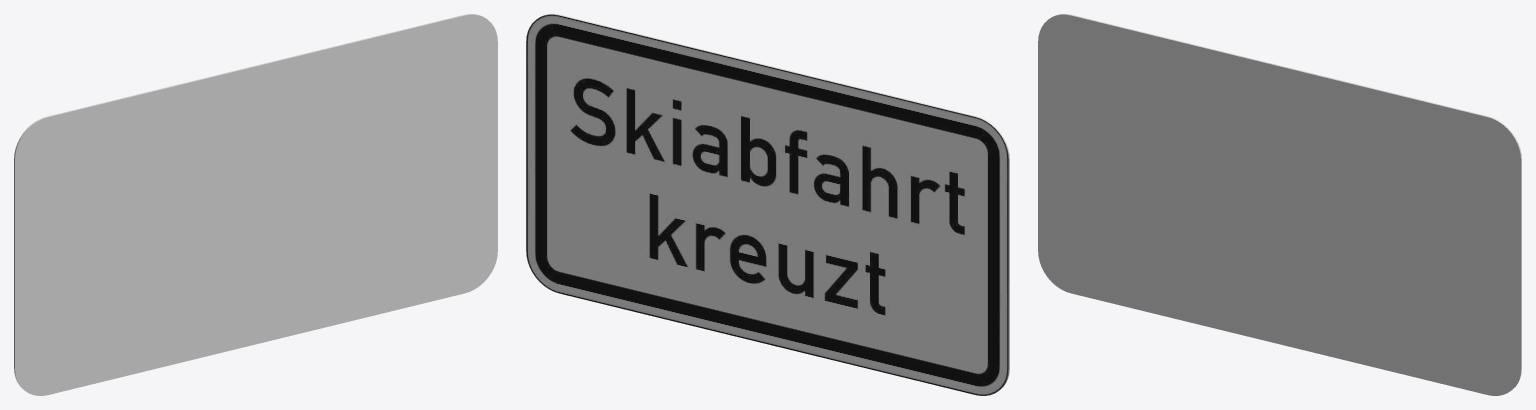
3 views of the same model, side by side, from view 1: azimuth 30°, elevation 25°; view 2: azimuth 150°, elevation 25°; view 3: azimuth 330°, elevation 25° (orthographic).
Parts seen in each view (by area): view 1: Plane; view 2: Plane; view 3: Plane.
Boxes of the visible parts, x1,y1,x2,y2 form: Plane: [14, 14, 497, 395]; Plane: [526, 14, 1009, 395]; Plane: [1038, 14, 1521, 395].
Size of the model in its own units: 0.6 by 0.33 by 0.002.
Materials: 2 (1 with a texture image).
